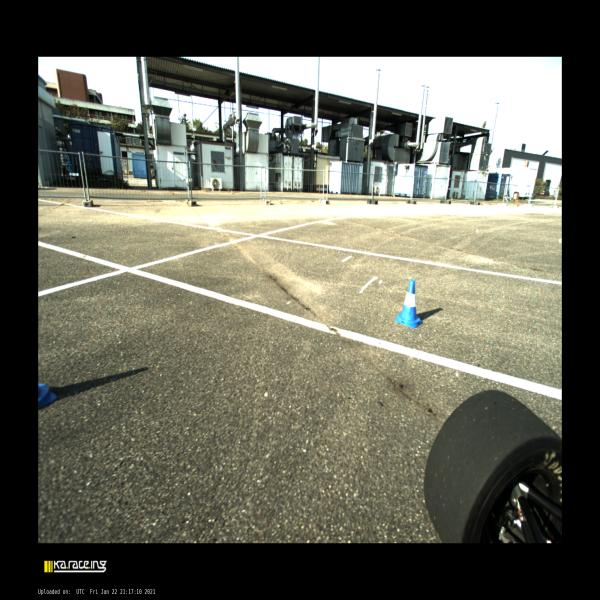blue_cone: (394, 279, 423, 328)
